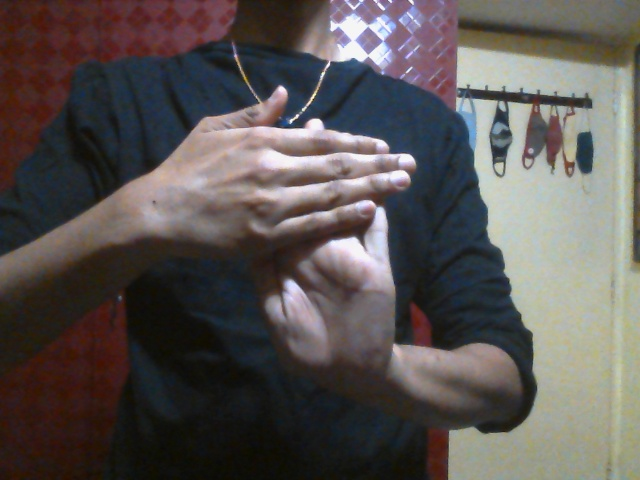H: (158, 86, 419, 393)
